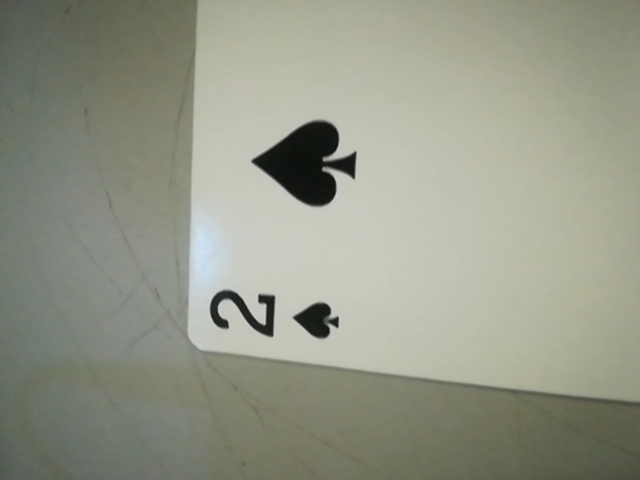ht 2: (195, 275, 359, 360)
